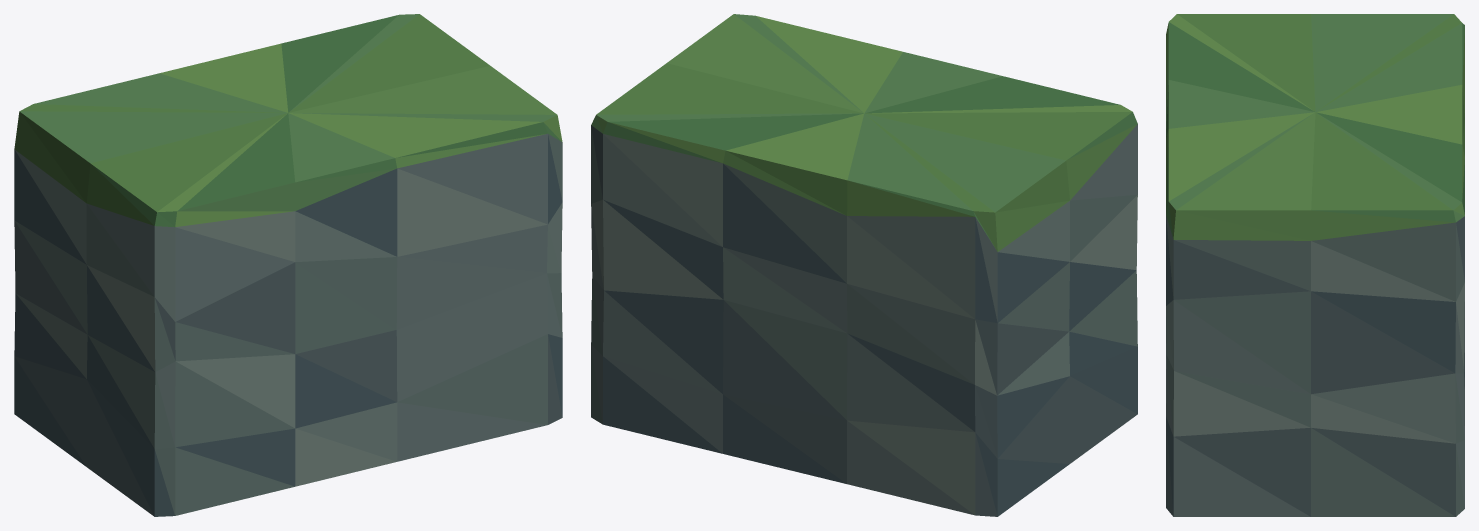
File: scenic-ridge.glb
The picture shows the model from 3 angles, left to right: view 1: azimuth 30°, elevation 25°; view 2: azimuth 150°, elevation 25°; view 3: azimuth 270°, elevation 25°; orthographic projection.
Visible parts, largest first — view 1: scenic-ridge; view 2: scenic-ridge; view 3: scenic-ridge.
Boxes of the visible parts, box(x1,y1,x2,y2) form: scenic-ridge: box(14, 14, 562, 516); scenic-ridge: box(591, 14, 1137, 516); scenic-ridge: box(1166, 14, 1464, 516).
Size of the model in its own units: 19 by 13.5 by 12.
1 material, 1 textured.
